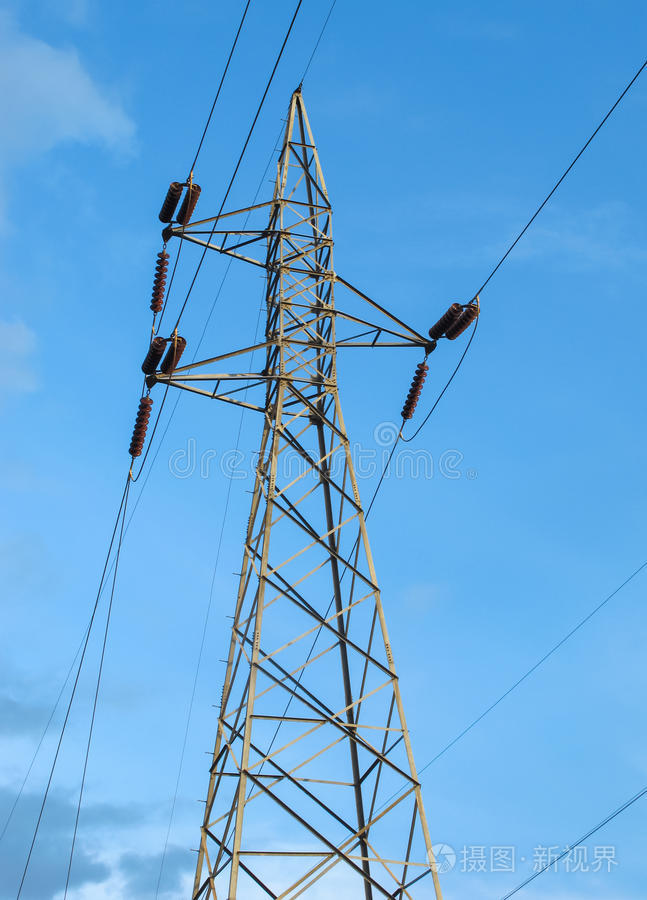insulator: (156, 182, 200, 226), (141, 334, 185, 377), (428, 303, 477, 339), (128, 394, 154, 456), (403, 364, 427, 420), (151, 248, 169, 311)
